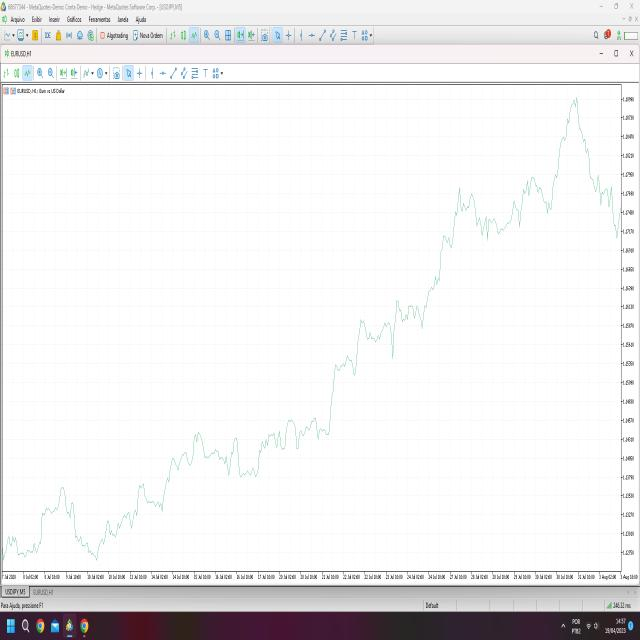bandeira_alta: (327, 339, 355, 435)
oco: (517, 86, 621, 253)
